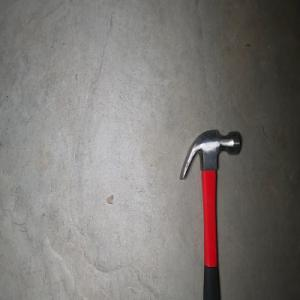Hammer: (178, 128, 241, 300)
